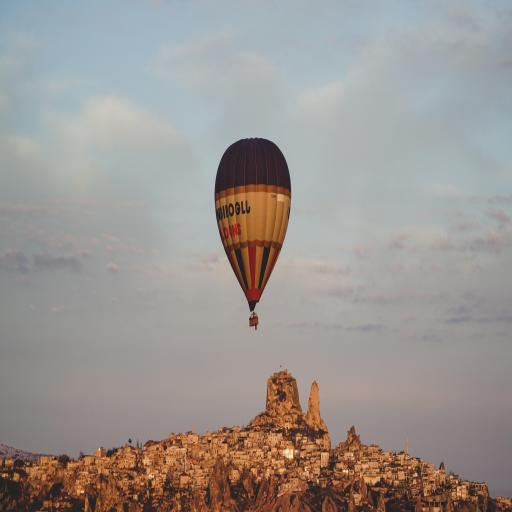hot air ballon: (215, 138, 291, 326)
